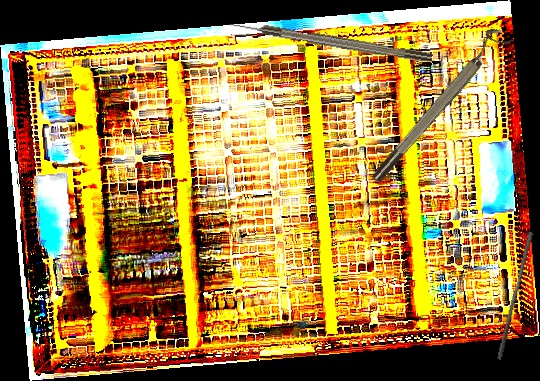Fixation Ring: (362, 23, 513, 186)
Hook Surgical: (228, 17, 433, 65)
Pusher: (496, 230, 535, 362)
